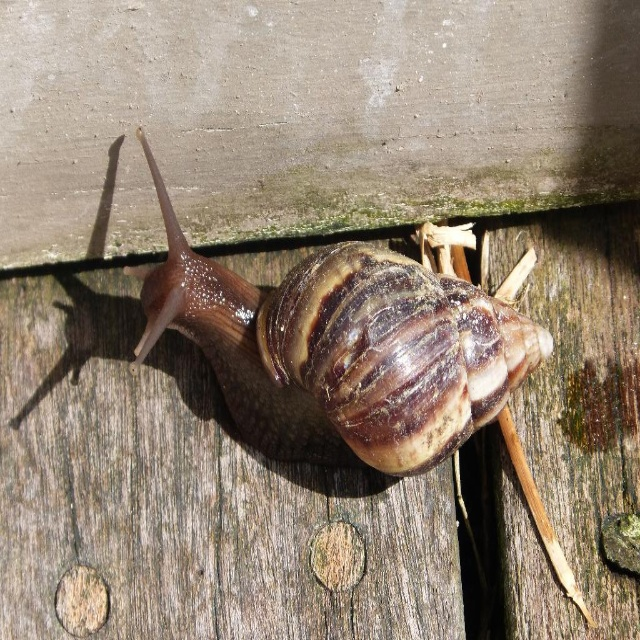Snail: (122, 124, 554, 482)
